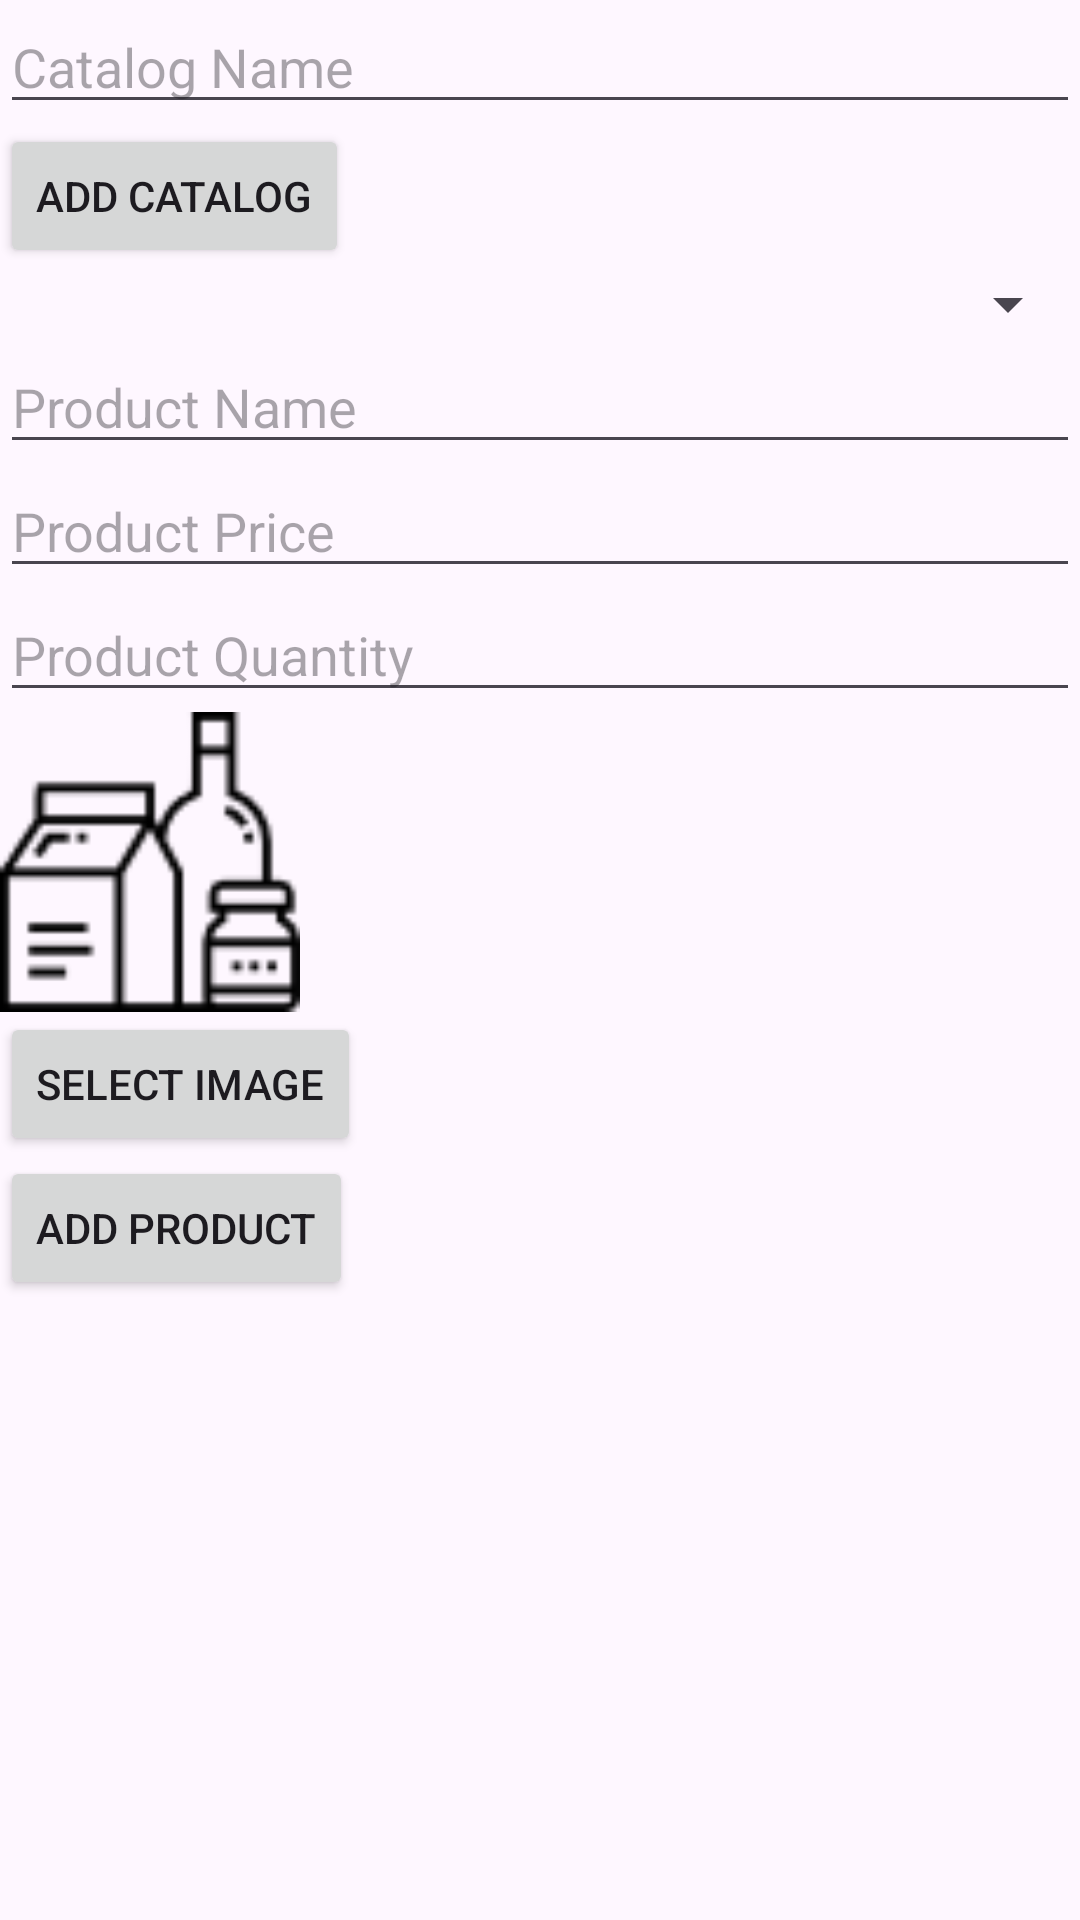

Screen size 1080px×1920px. Icon name, then its box in pixels as (x1, y1, x2, y2):
products: (0, 712, 300, 1012)
